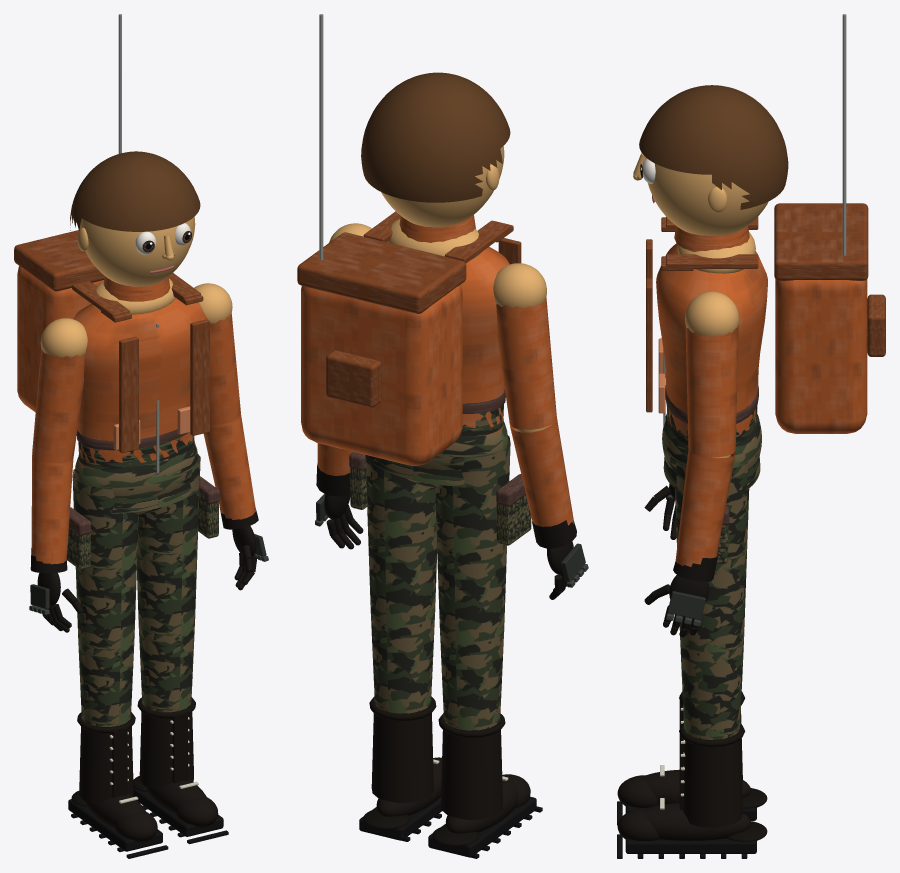
Rendered from 04-sac-radio.glb.
The picture shows the model from 3 angles, left to right: view 1: azimuth 30°, elevation 25°; view 2: azimuth 150°, elevation 25°; view 3: azimuth 270°, elevation 25°; orthographic projection. The views are drawn at different scales.
Size of the model in its own units: 0.6344 by 2.01 by 0.5827.
27 materials, 5 textured.
